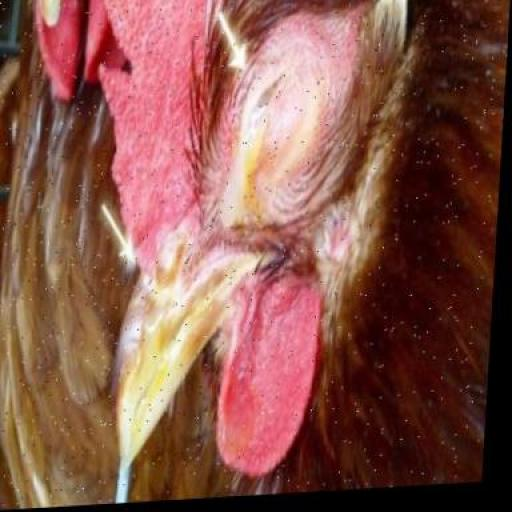disease: (204, 25, 352, 205), (208, 37, 247, 165)
